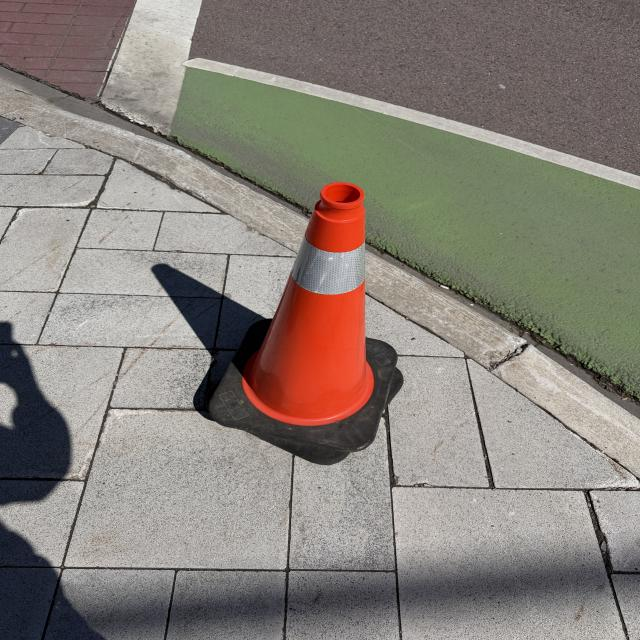Traffic Cone: (200, 182, 408, 461)
